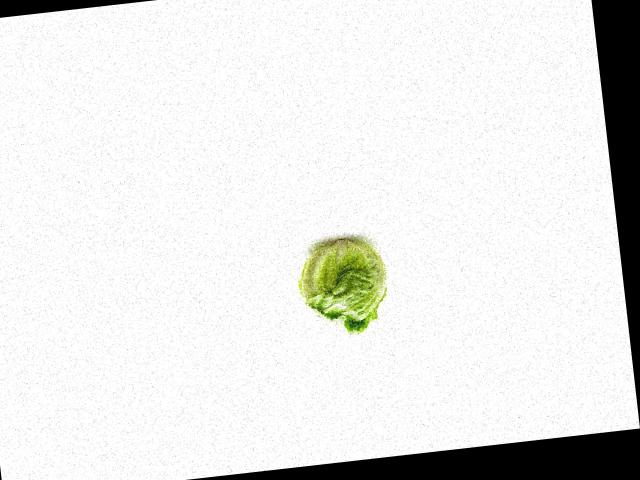lettuce: (285, 230, 396, 341)
